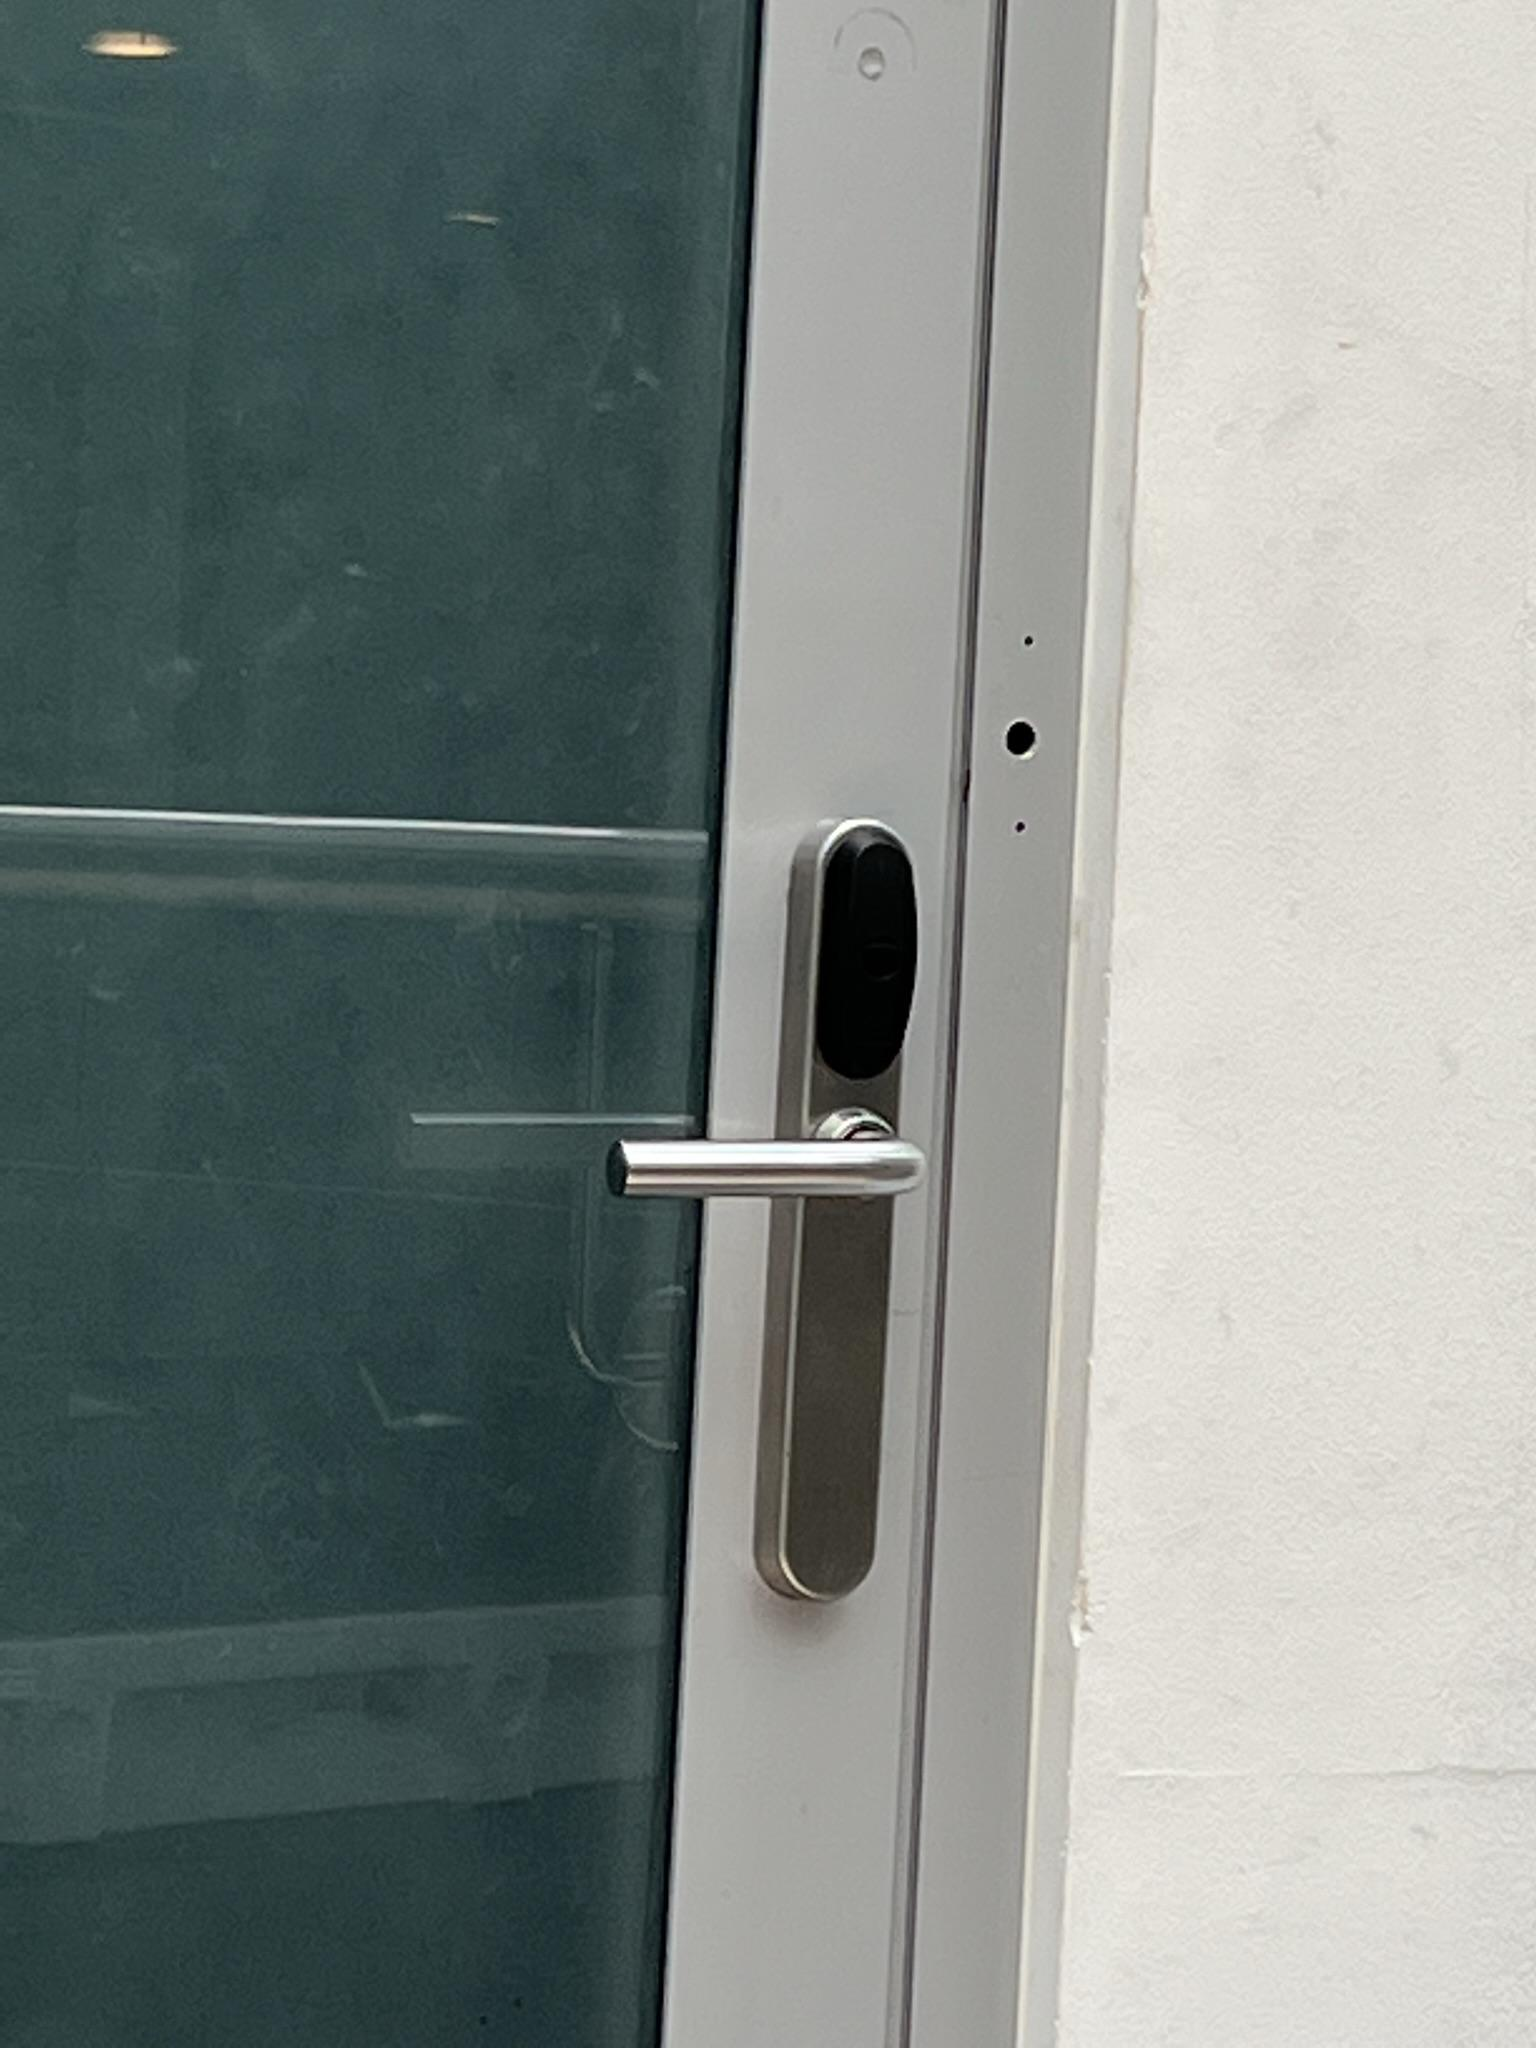handle: (611, 780, 933, 1606)
